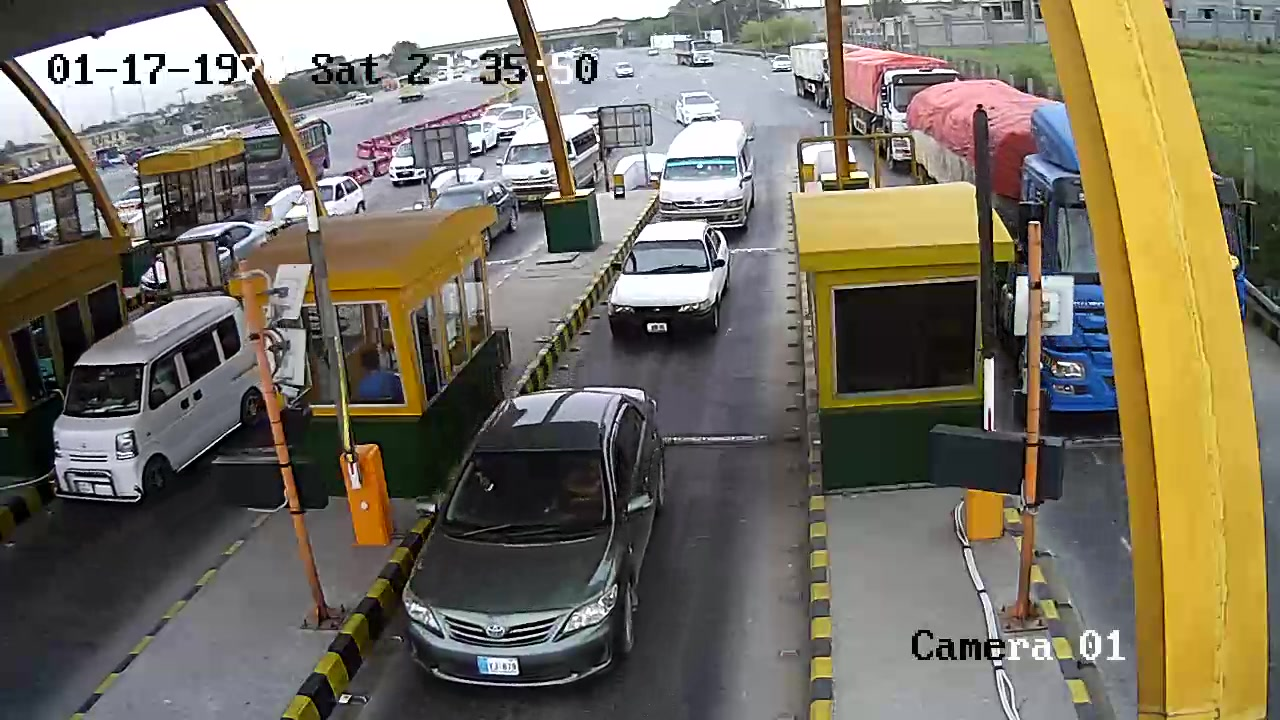F1: (397, 381, 675, 698), (603, 216, 730, 350)
